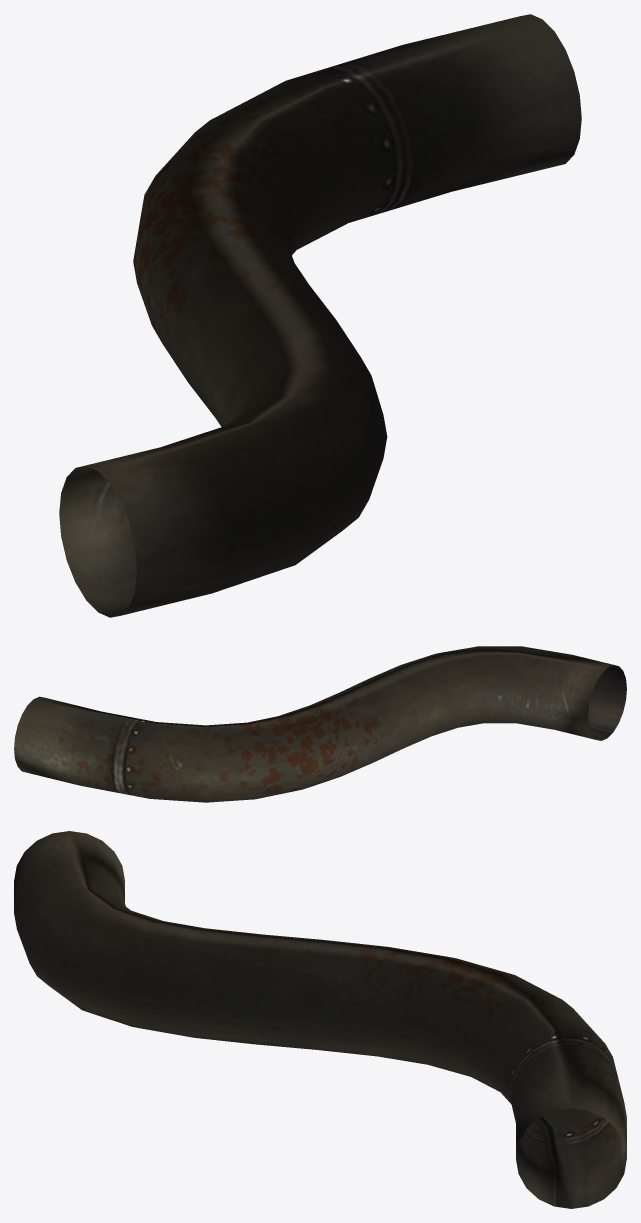
File: Tuyau_3.FBX
3 renders of one model, top to bottom at view 1: azimuth 30°, elevation 25°; view 2: azimuth 150°, elevation 25°; view 3: azimuth 270°, elevation 25°, orthographic. The views are drawn at different scales.
Visible parts, largest first — view 1: Tubes_trois; view 2: Tubes_trois; view 3: Tubes_trois.
Boxes of the visible parts, left/top/right/bottom form: Tubes_trois: left=59, top=14, right=581, bottom=617; Tubes_trois: left=14, top=646, right=626, bottom=802; Tubes_trois: left=14, top=831, right=626, bottom=1208.
Size of the model in its own units: 272 by 46.04 by 254.
